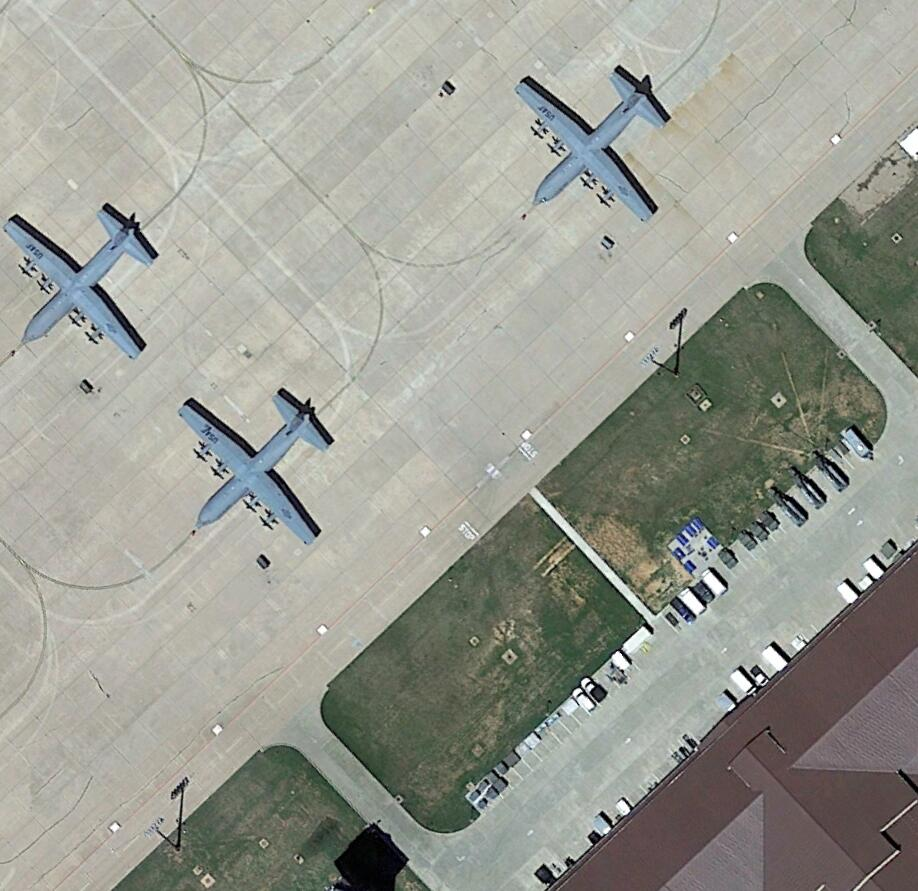A2: (3, 195, 170, 364), (514, 57, 675, 226), (173, 385, 335, 552)
